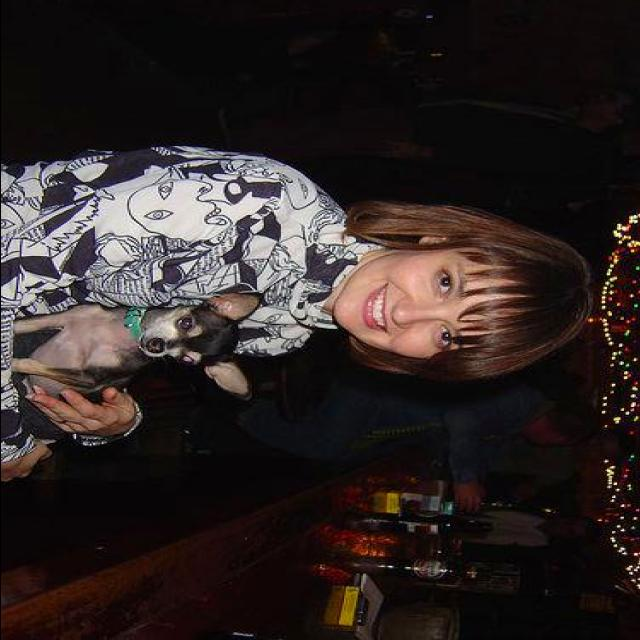chihuahua: (8, 288, 272, 446)
